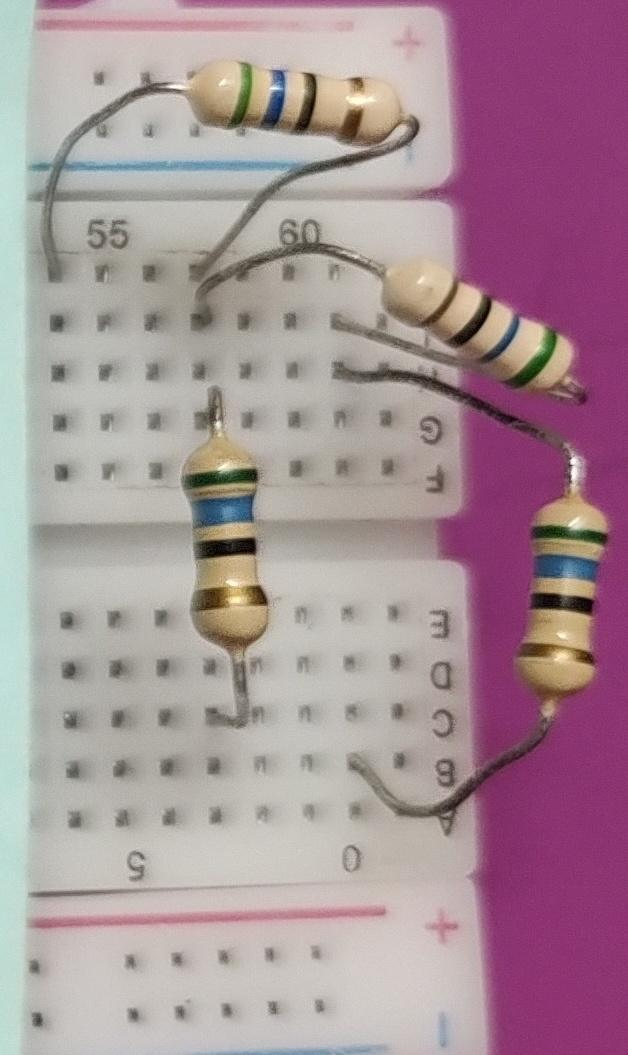resistor: (375, 245, 582, 401), (169, 421, 279, 659), (513, 481, 612, 726), (181, 47, 404, 151)
